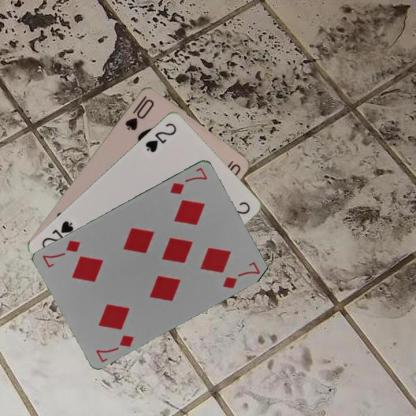10s: (122, 92, 155, 132)
2s: (142, 119, 178, 154)
7d: (167, 164, 209, 195), (94, 332, 135, 362)
